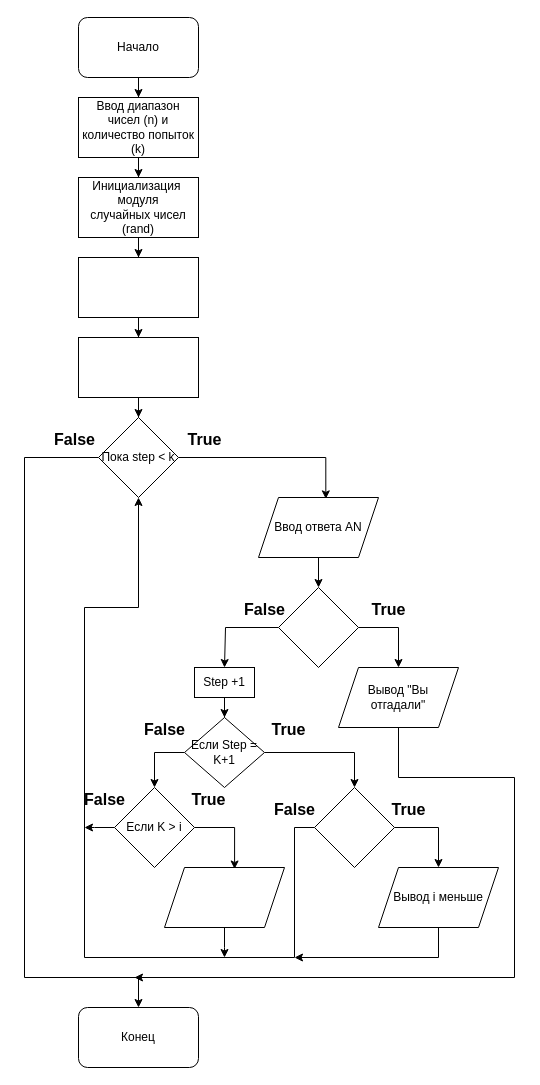
The diagram is 540 pixels wide and 1085 high, and some of its shapes have lost their labels. Each missing label, with the centre of its shape:
"Вывод i больше" goes at point 224,897.
"Если AN = i" goes at point 318,627.
"Если K < i" goes at point 354,827.
"Загадывание числа i = rand(1,n)" goes at point 138,287.
"Установка переменной step = 1" goes at point 138,367.
